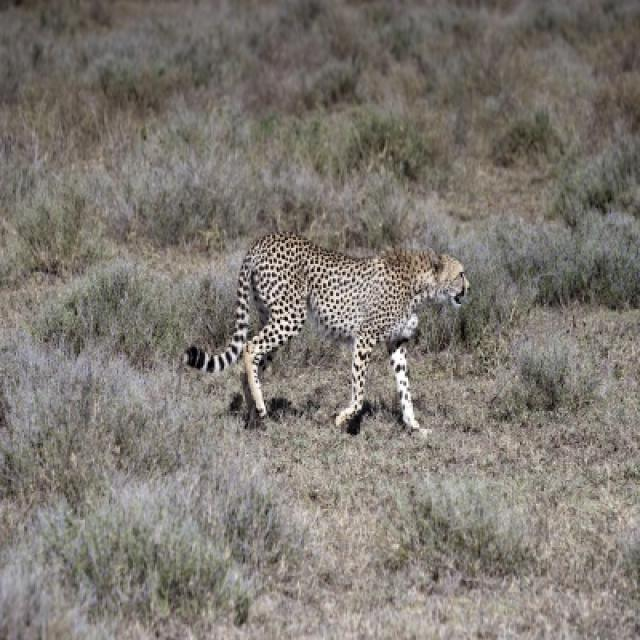Cheetah: (186, 235, 469, 437)
